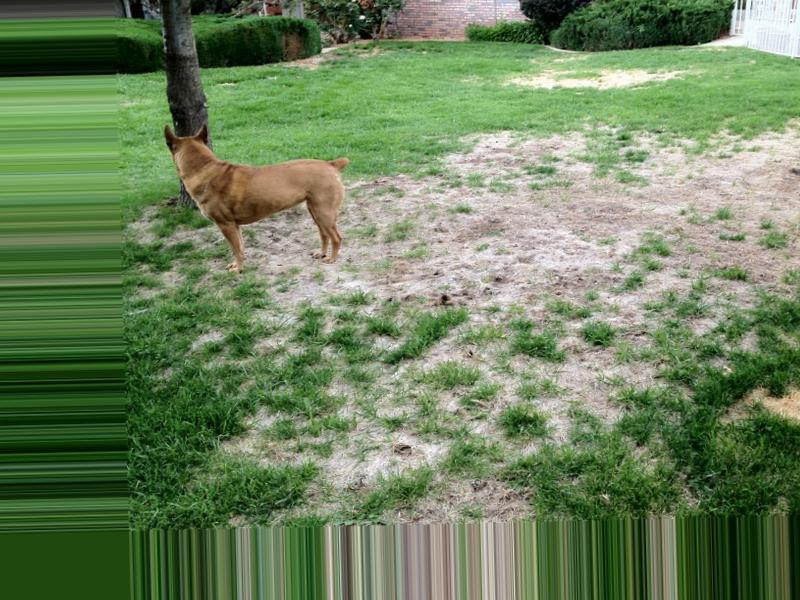patch: (432, 159, 752, 330), (270, 219, 494, 445), (348, 370, 601, 482), (537, 71, 628, 89)
